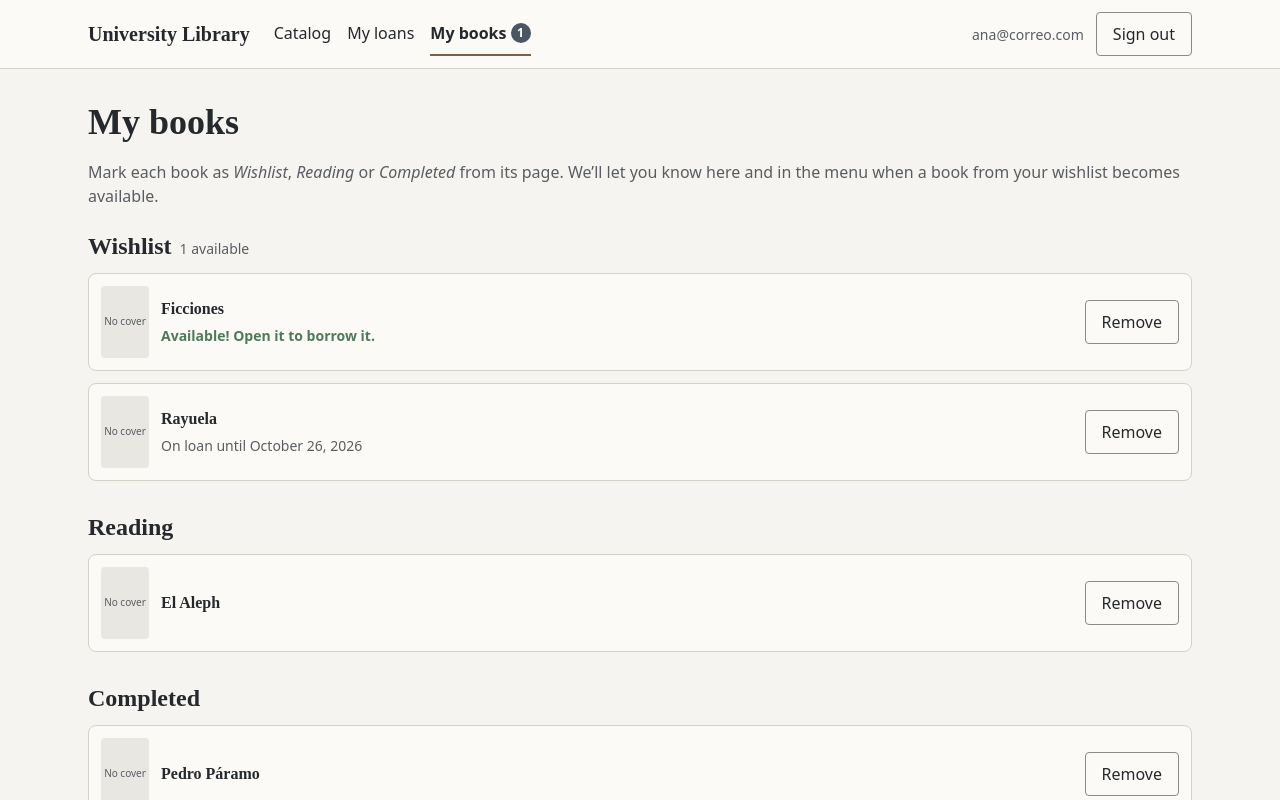
Test: Mis libros y aviso de la lista de deseos (integración) › quitar un libro de la lista también actualiza el aviso del menú
Step 1. Click the button with aria-label "Remove Ficciones from your books" → click(1132, 322), box [1084, 300, 1179, 344]
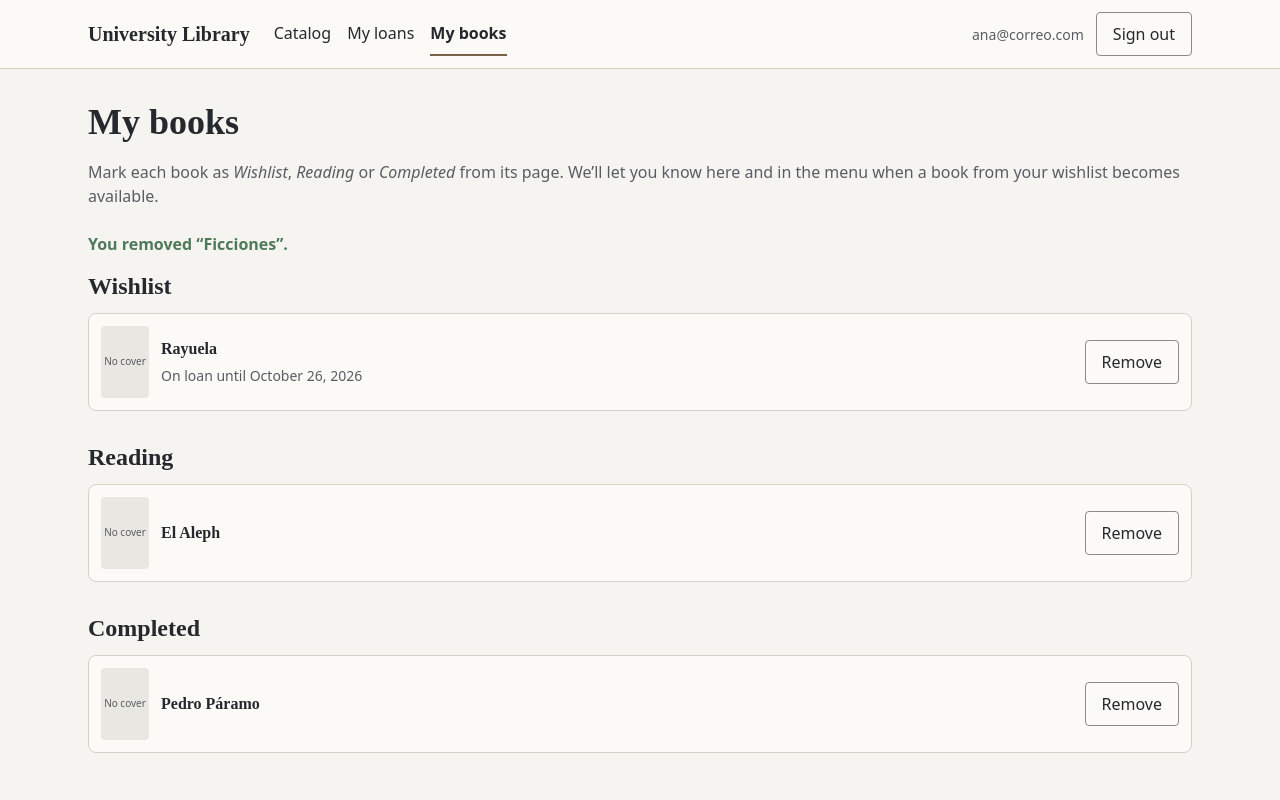
Check: the link "My books" is shown, box [430, 12, 506, 56]
Check: the text "You removed “Ficciones”." is shown, box [88, 233, 288, 255]
